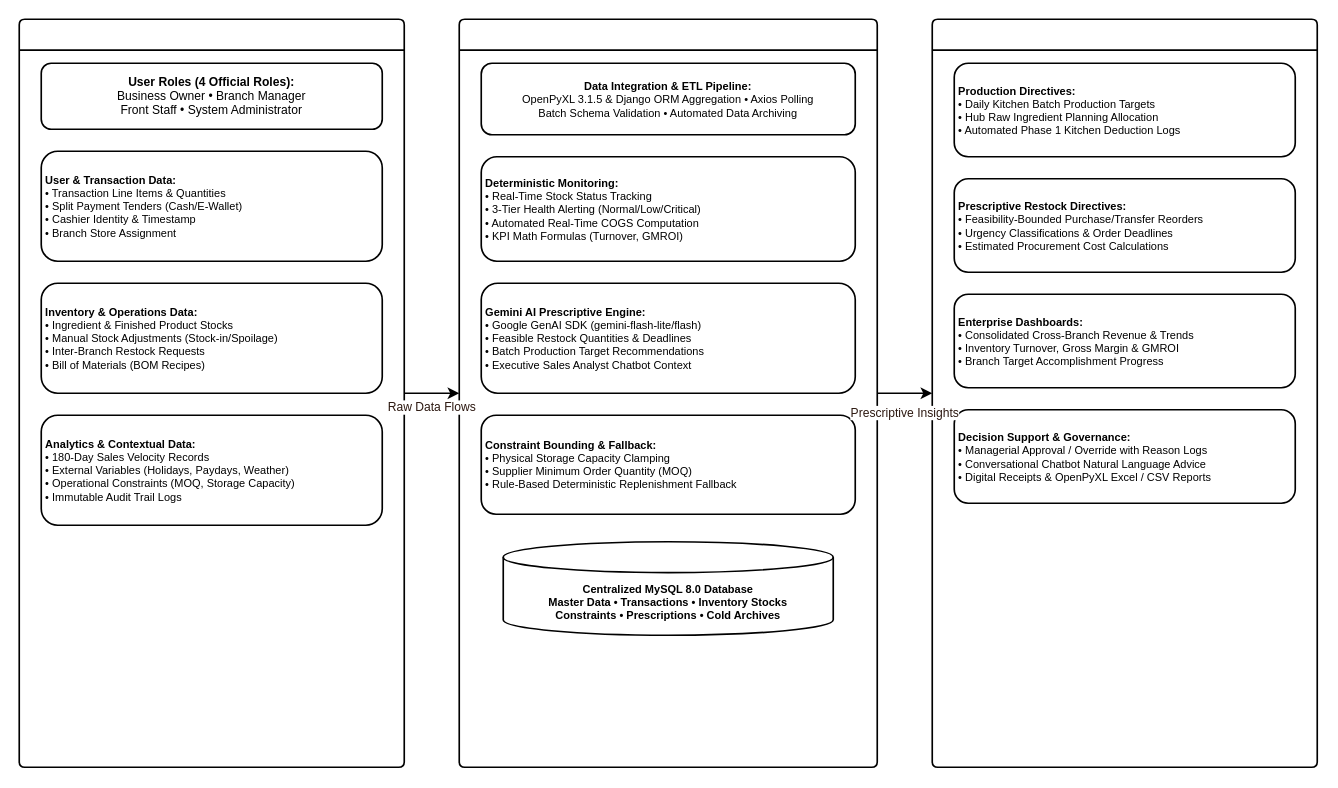
This 1338x788 diagram has some shape labels left out. Each missing label, with the box of its shape:
INPUT: User Roles & Multi-Branch Enterprise Data: (18, 18, 405, 768)
OUTPUT: Operational Intelligence & Decision Support: (931, 18, 1318, 768)
PROCESS: Business Analytics & Decision Engine: (458, 18, 878, 768)
